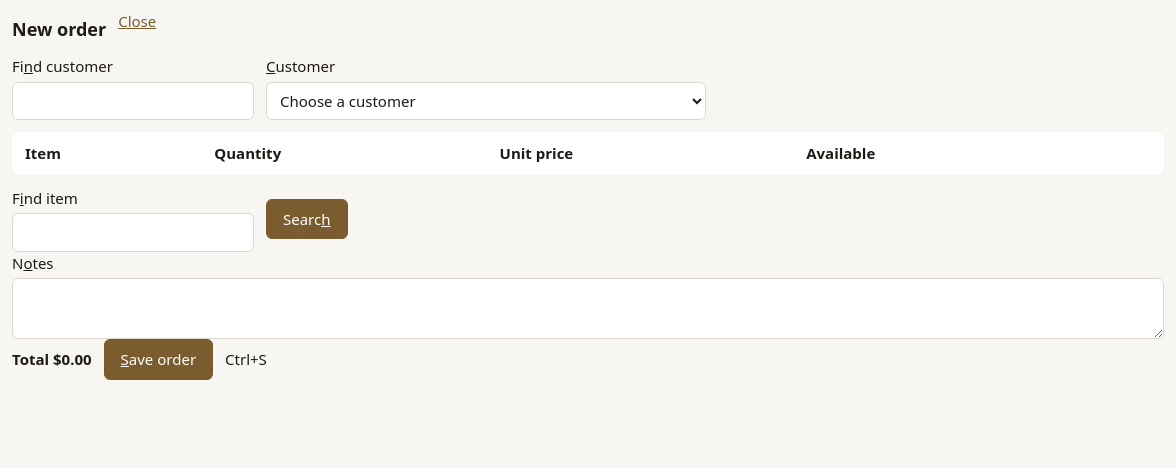
OrderEditor › refuses to save an empty order
Select "Walk-in" in the dropdown labelled "Customer" at (486, 101), box [266,82,706,120]
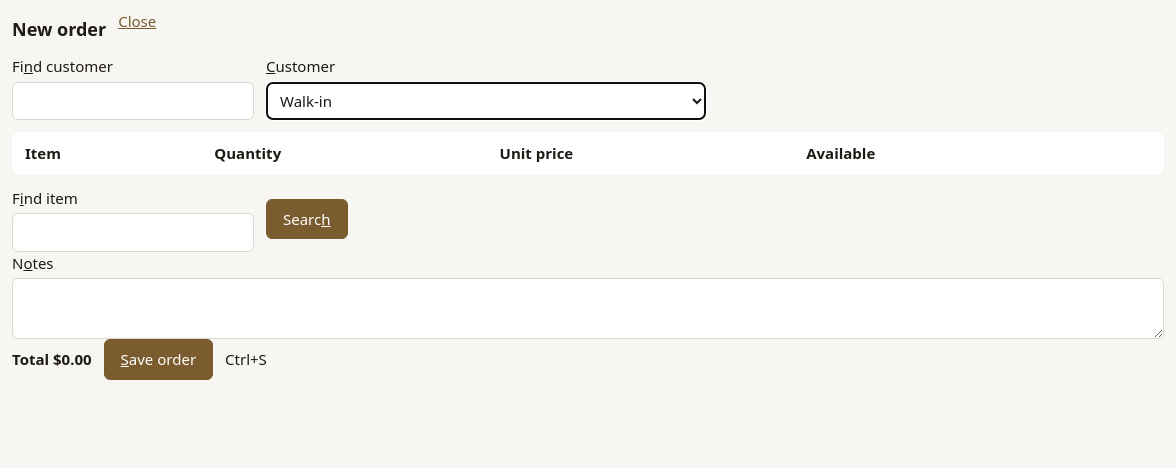
Click the button "Save order" at (158, 359), box [104,339,213,380]
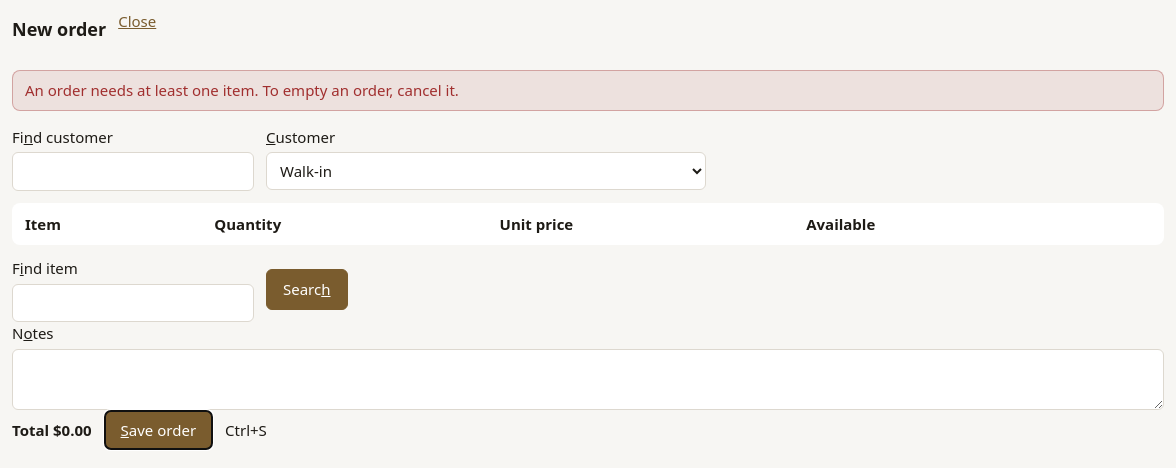
Now the text "An order needs at least one item. To empty an order, cancel it." is shown, box [12,70,1164,110]
